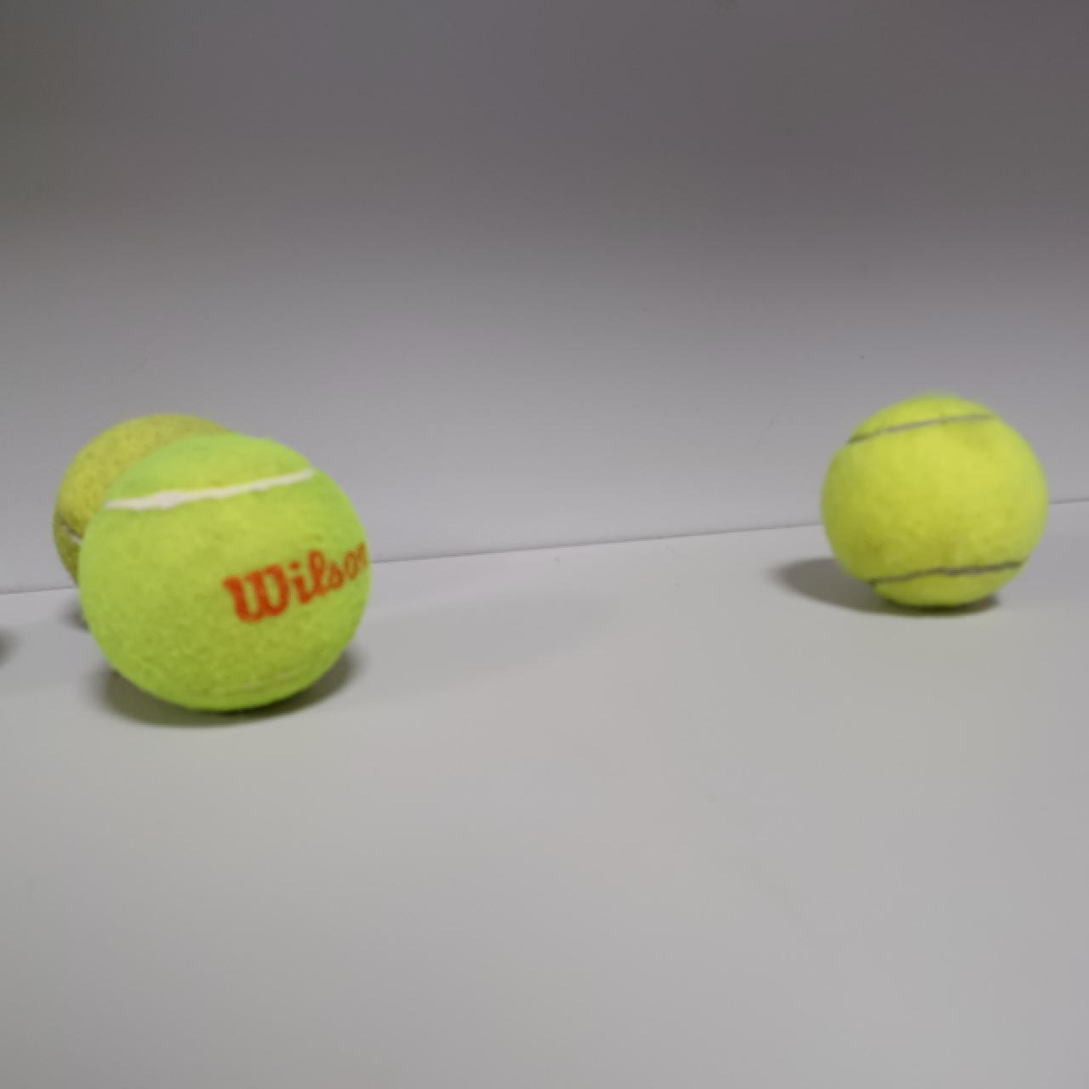tennis-ball: (77, 436, 371, 716), (821, 396, 1047, 612), (53, 413, 274, 623)
